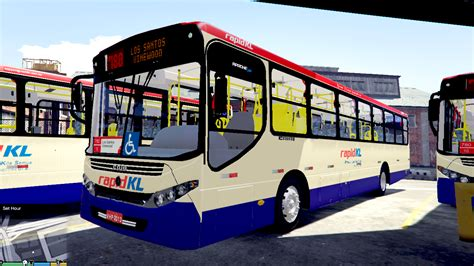bus: (84, 38, 409, 246)
